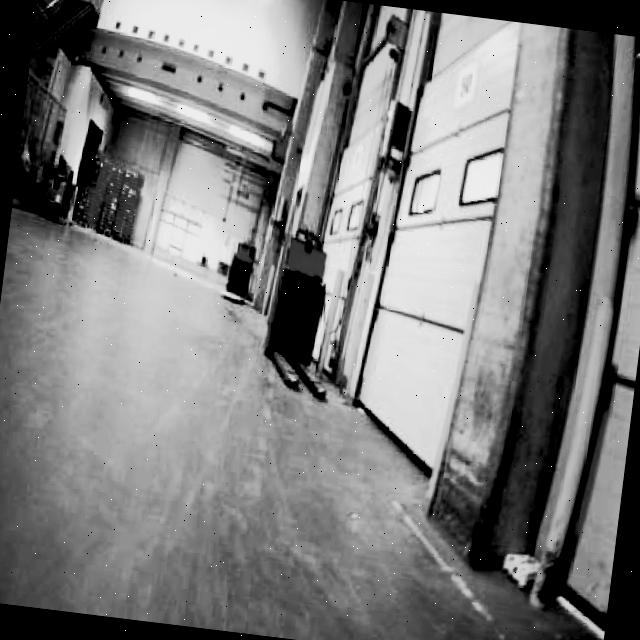ground: (0, 200, 640, 640)
pallet: (206, 0, 640, 640), (210, 222, 376, 404), (11, 0, 105, 216), (257, 225, 345, 398), (68, 145, 147, 245), (263, 265, 328, 364), (28, 0, 105, 80), (222, 239, 258, 302)
